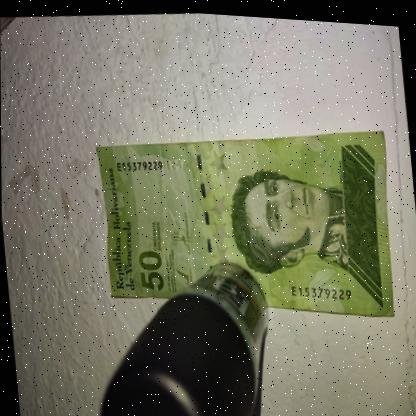fifty-front-vef: (93, 109, 401, 335)
